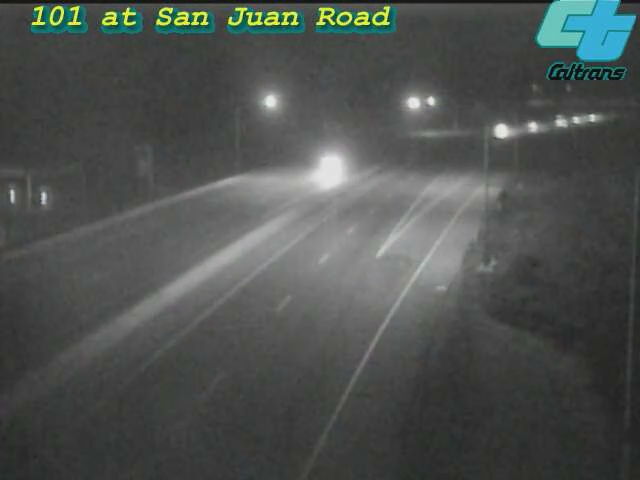vehicle: (284, 129, 364, 209), (565, 94, 615, 144), (552, 94, 602, 144), (537, 96, 587, 146), (510, 102, 560, 152), (478, 105, 528, 155)
